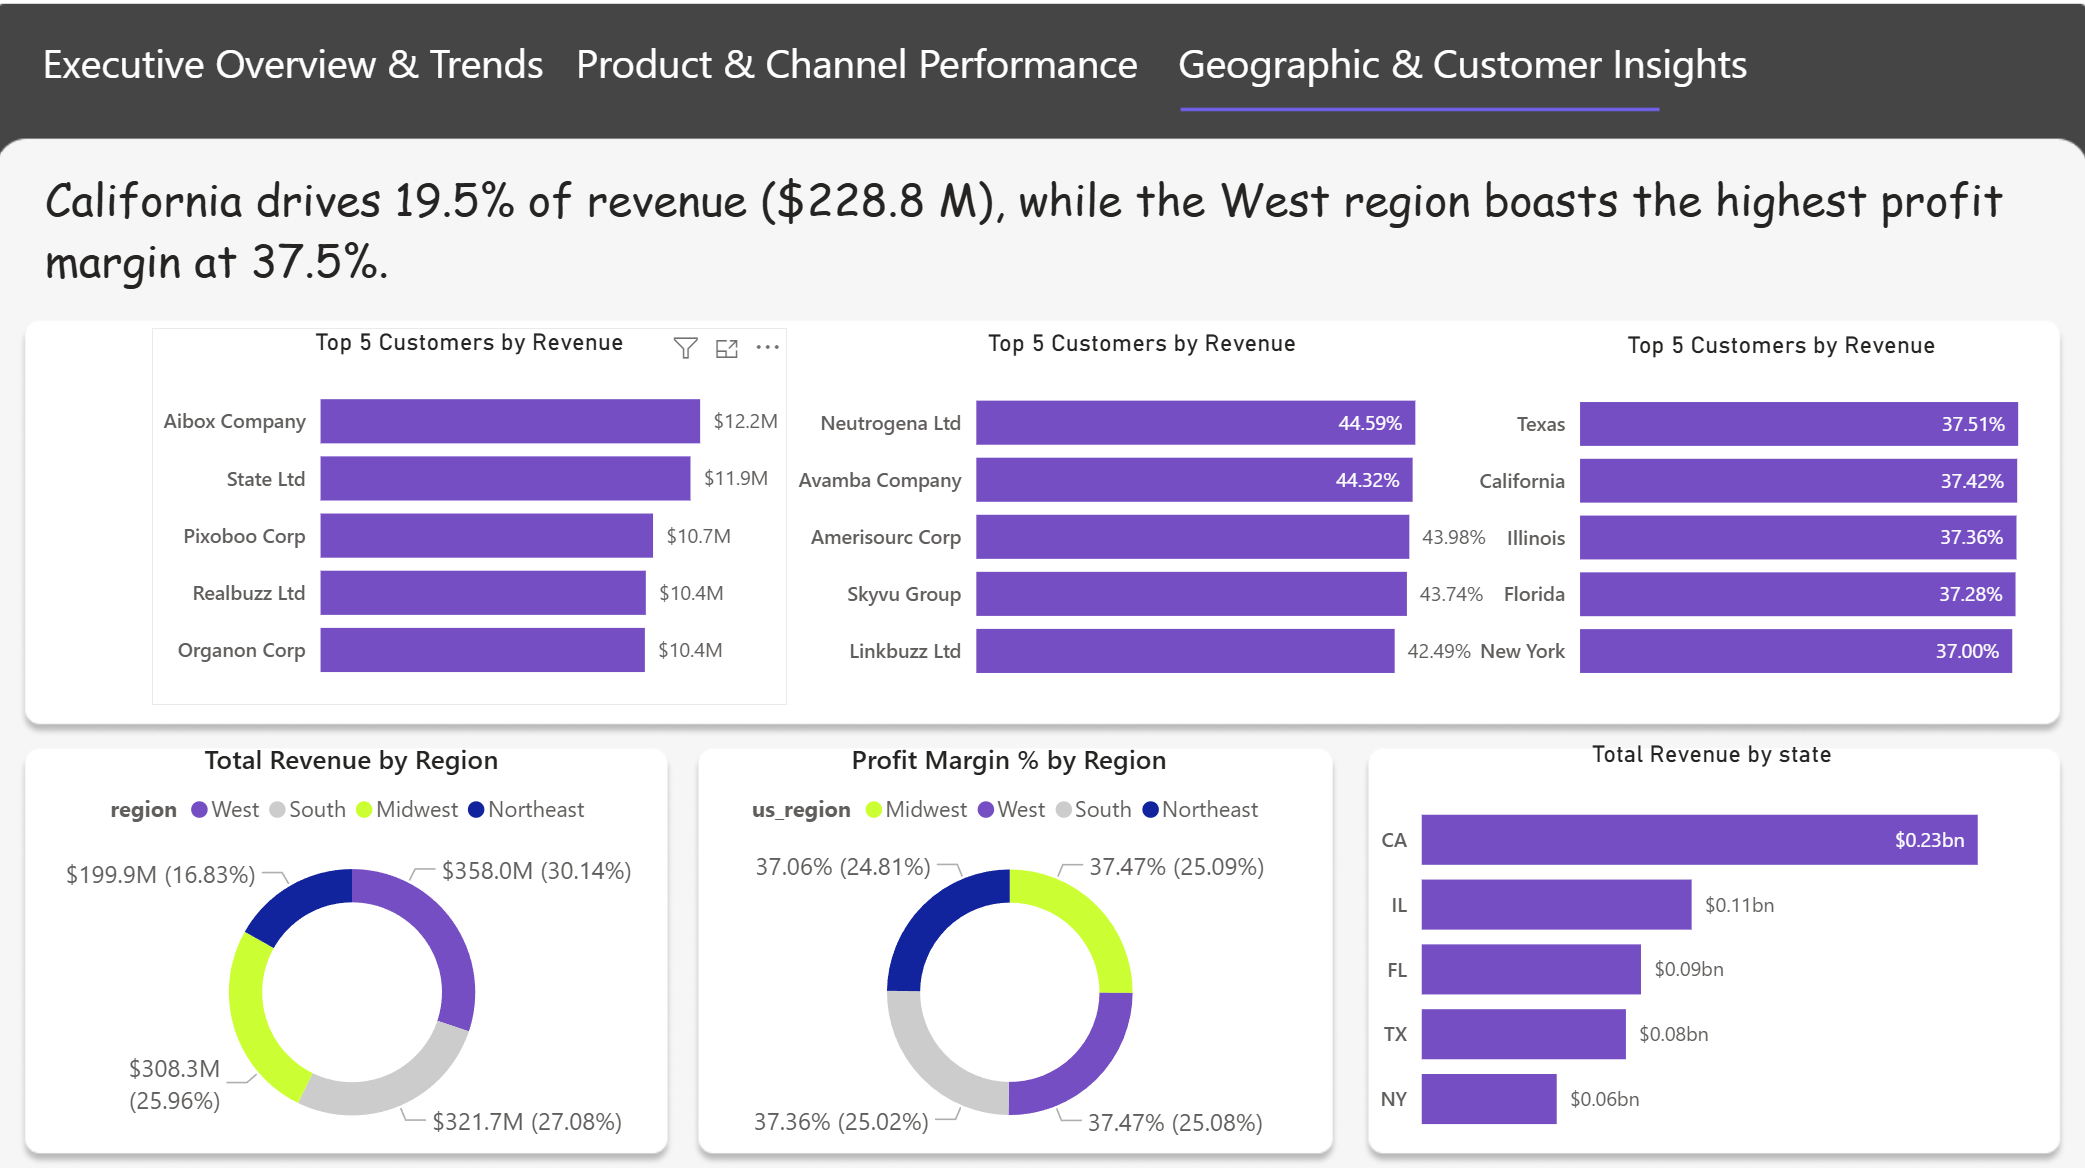

The page's visual inventory and layout, read from the dashboard file:
{"tool":"powerbi","page":{"name":"Geographic & Customer Insights","canvas":[1280,720],"ordinal":2},"visuals":[{"type":"image","box":[0,0,1280,720.7],"z":0},{"type":"textbox","box":[30.1,99.7,1225.5,87],"z":1000},{"type":"barChart","title":"Top 5 Customers by Revenue","fields":{"Y":["Sales_data.Total Revenue"],"Category":["Sales_data.customer_name"]},"box":[99.8,202.4,385.6,228.4],"z":2000},{"type":"barChart","title":"Top 5 Customers by Revenue","fields":{"Y":["Sales_data.Profit Margin %"],"Category":["Sales_data.customer_name"]},"box":[486,203,430,228],"z":3000},{"type":"barChart","title":"Top 5 Customers by Revenue","fields":{"Y":["Sales_data.Profit Margin %"],"Category":["Sales_data.state_name"]},"box":[898.5,203.8,381.5,227],"z":4000},{"type":"donutChart","title":"Total Revenue by Region","fields":{"Y":["Sales_data.Total Revenue"],"Category":["Sales_data.us_region"]},"box":[17.8,452.6,406.2,254.4],"z":5000},{"type":"donutChart","title":"Profit Margin % by Region","fields":{"Category":["Sales_data.us_region"],"Y":["Sales_data.Profit Margin %"]},"box":[423.9,452.6,392.5,254.4],"z":6000},{"type":"clusteredBarChart","fields":{"Category":["Sales_data.state"],"Y":["Sales_data.Total Revenue"]},"box":[838.3,452.6,417.1,254.4],"z":7000},{"type":"textbox","box":[17.8,19.1,335,60.2],"z":8000},{"type":"textbox","box":[352.8,19.1,367.9,60.2],"z":9000},{"type":"textbox","box":[712.5,19.1,367.9,60.2],"z":10000},{"type":"actionButton","box":[30.1,13.7,313.2,65.6],"z":11000},{"type":"actionButton","box":[352.8,19.1,359.7,60.2],"z":12000}]}

Visuals, with their boxes in screenshot pixels (x1, y1, x2, y2), scaled from the page's 1280x720 canvas onto the 2085x1168 screenshot:
image: select_region(0, 0, 2084, 1167)
textbox: select_region(49, 162, 2045, 303)
"Top 5 Customers by Revenue" barChart: select_region(163, 328, 791, 699)
"Top 5 Customers by Revenue" barChart: select_region(792, 329, 1492, 699)
"Top 5 Customers by Revenue" barChart: select_region(1464, 331, 2084, 699)
"Total Revenue by Region" donutChart: select_region(29, 734, 691, 1147)
"Profit Margin % by Region" donutChart: select_region(690, 734, 1330, 1147)
clusteredBarChart - Sales_data.state x Sales_data.Total Revenue: select_region(1366, 734, 2045, 1147)
textbox: select_region(29, 31, 575, 129)
textbox: select_region(575, 31, 1174, 129)
textbox: select_region(1161, 31, 1760, 129)
actionButton: select_region(49, 22, 559, 129)
actionButton: select_region(575, 31, 1161, 129)
